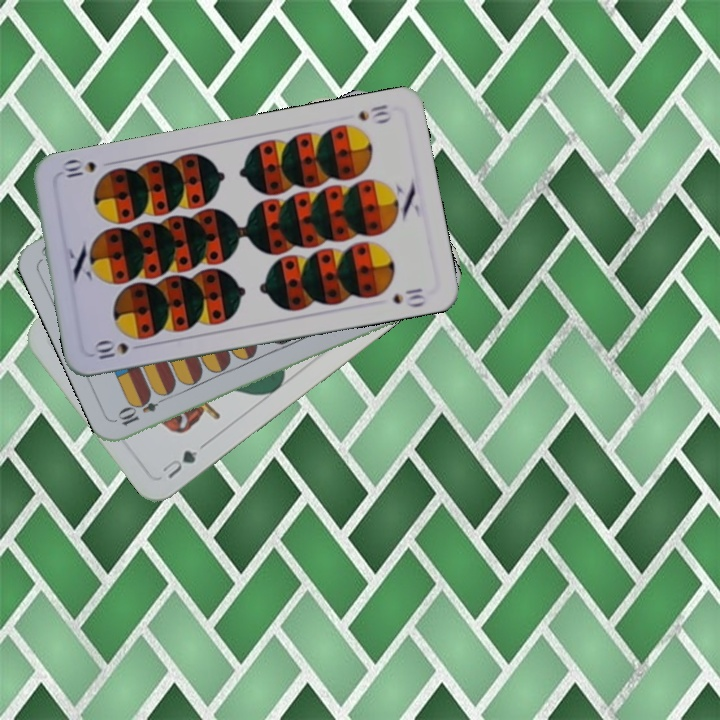E10: (114, 390, 171, 429)
GU: (158, 440, 208, 482)
S10: (89, 337, 131, 362), (354, 100, 393, 126)
